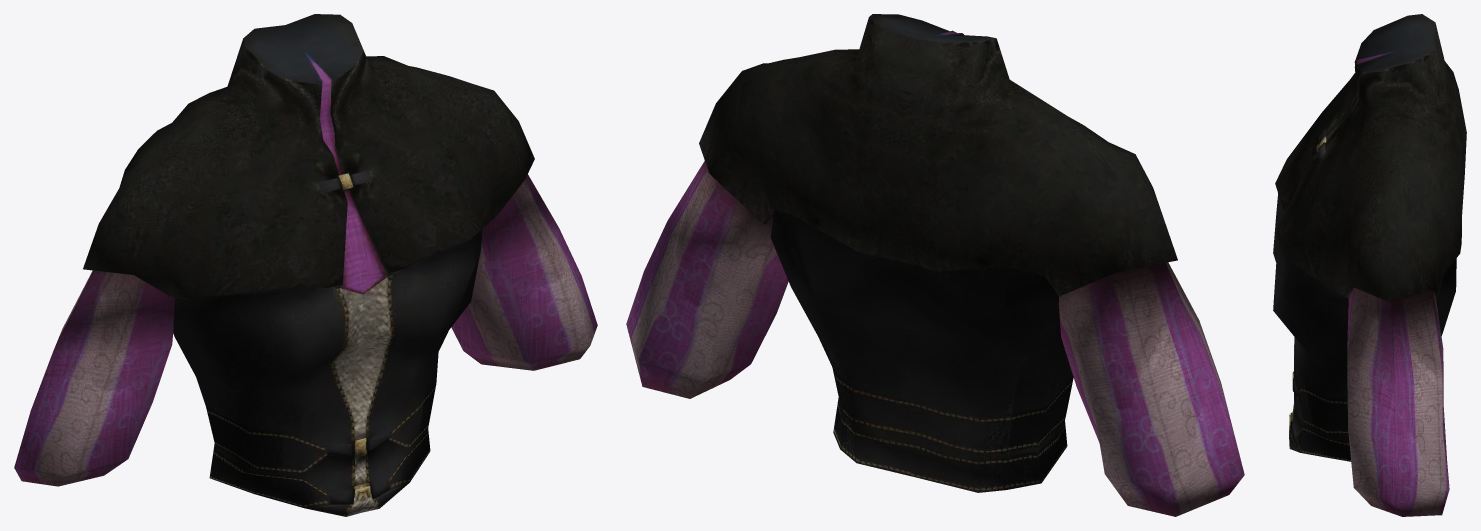
Rendered from STATIC_GS_STROJ_KOBIECY_ROZOWY_01.glb.
The picture shows the model from 3 angles, left to right: view 1: azimuth 30°, elevation 25°; view 2: azimuth 150°, elevation 25°; view 3: azimuth 270°, elevation 25°; orthographic projection. The views are drawn at different scales.
Visible parts, largest first — view 1: Mesh; view 2: Mesh; view 3: Mesh.
Part boxes in pixels (bbox=[...]): Mesh: bbox=[14, 14, 597, 516]; Mesh: bbox=[626, 14, 1244, 516]; Mesh: bbox=[1273, 14, 1466, 516].
Bounding box in the file's own units: 0.6386 × 0.4546 × 0.1968.
1 material, 1 textured.
